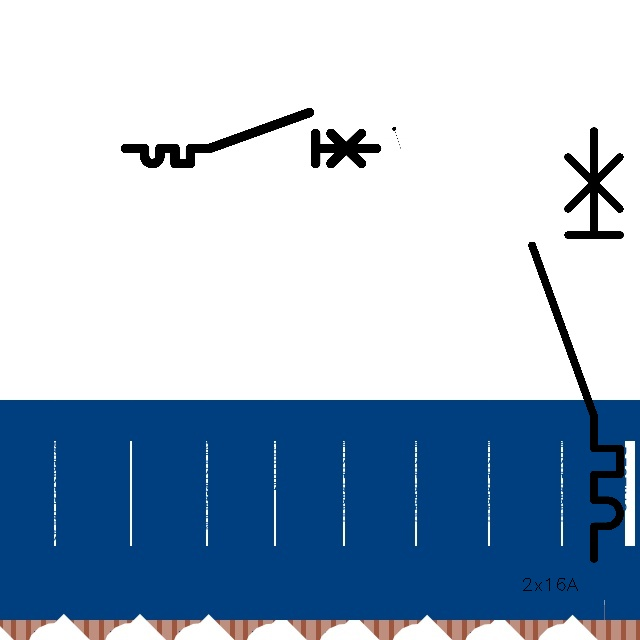interruptor_termomagnetico: (521, 120, 631, 570), (119, 106, 383, 170)
